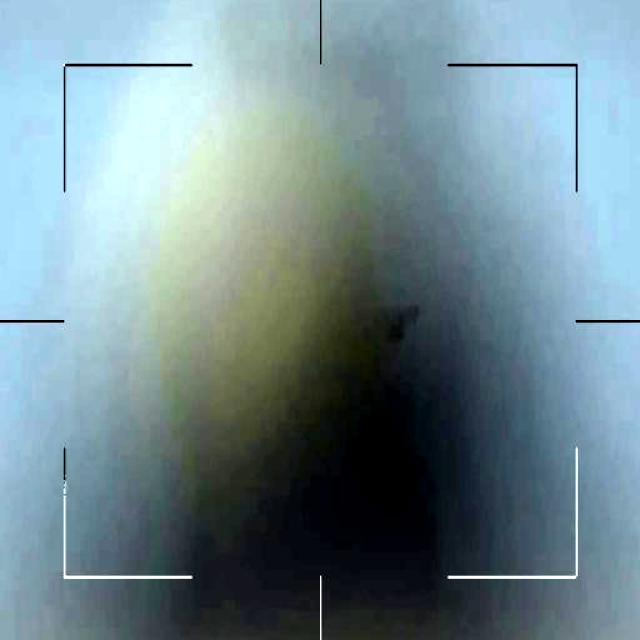bird: (371, 288, 432, 374)
